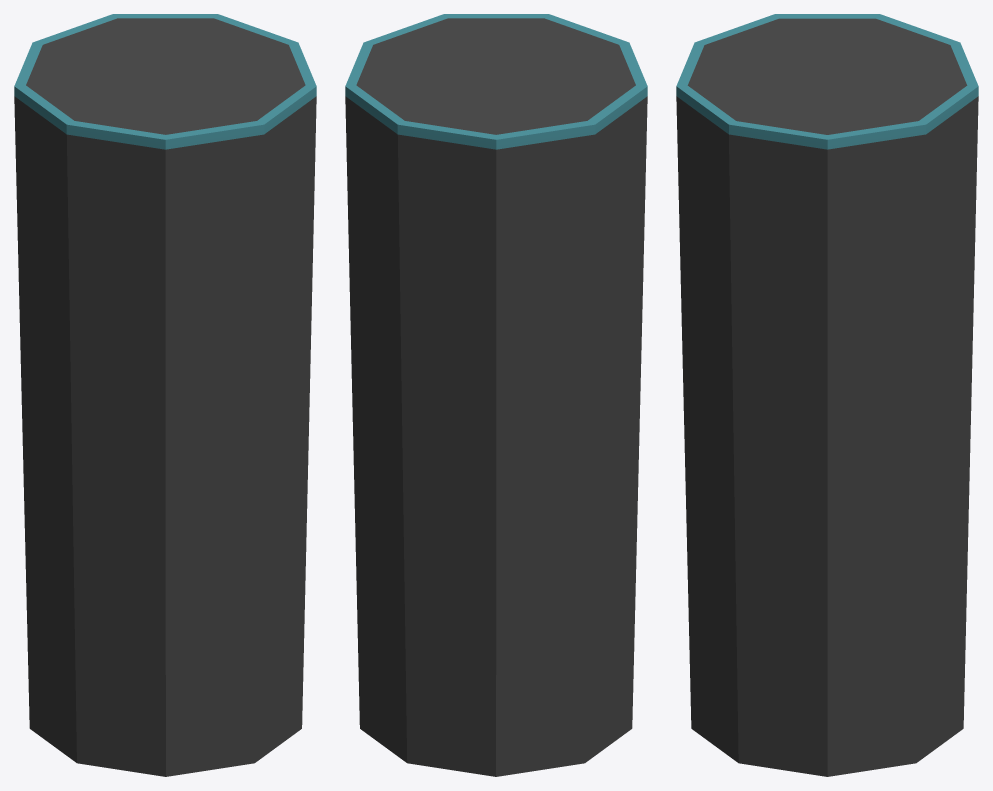
File: Alegra.fbx
The picture shows the model from 3 angles, left to right: view 1: azimuth 30°, elevation 25°; view 2: azimuth 150°, elevation 25°; view 3: azimuth 270°, elevation 25°; orthographic projection.
Visible parts, largest first — view 1: aLEGRA; view 2: aLEGRA; view 3: aLEGRA.
Part boxes in pixels (box(x1,y1,x2,y2)): aLEGRA: box(14, 14, 316, 776); aLEGRA: box(345, 14, 647, 776); aLEGRA: box(676, 14, 978, 776).
Bounding box in the file's own units: 0.2829 × 0.6747 × 0.2873.
